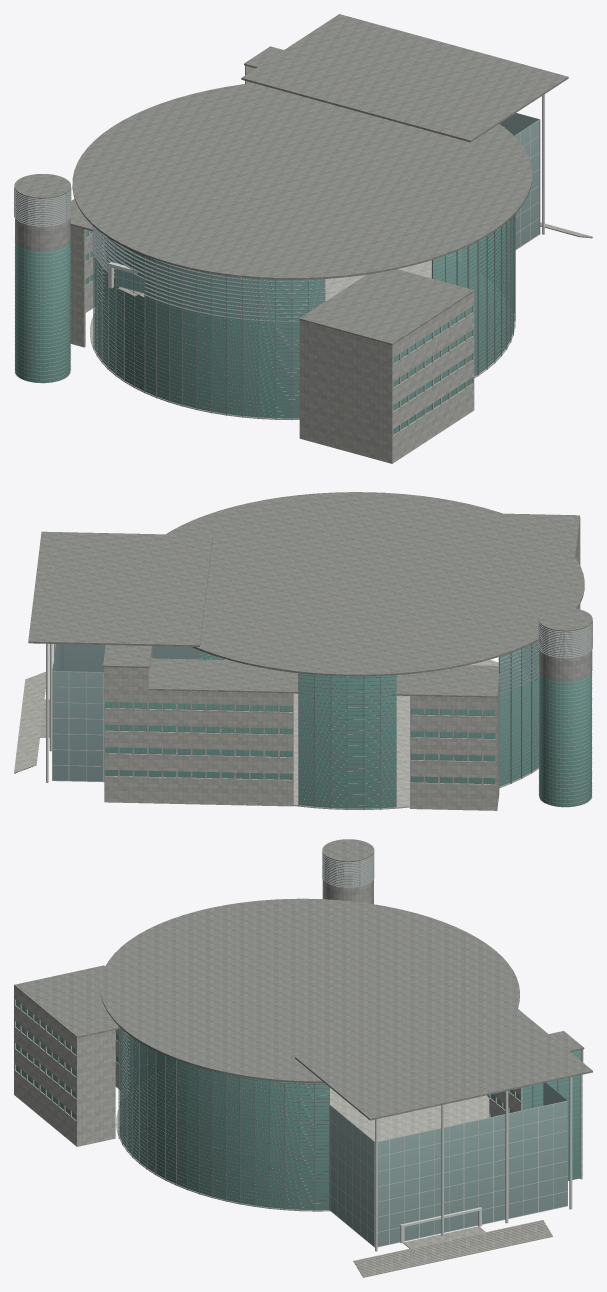
3 views of the same model, one above another, from view 1: azimuth 30°, elevation 25°; view 2: azimuth 150°, elevation 25°; view 3: azimuth 270°, elevation 25° (orthographic). The views are drawn at different scales.
Parts seen in each view (by area): view 1: library__roof, library__curtainGlass, library__stone, library__curtainFrames, library__glass, library__frame, library__atriumGlass, library__wingGlass, library__white, library__coreLouvers, library__core; view 2: library__roof, library__stone, library__curtainGlass, library__atriumGlass, library__glass, library__curtainFrames, library__wingGlass, library__wingFrames, library__stair-main, library__white, library__coreLouvers, library__core (+3 smaller); view 3: library__roof, library__curtainGlass, library__atriumGlass, library__stone, library__curtainFrames, library__atriumFrames, library__stair-main, library__wingGlass, library__roofColumns, library__coreLouvers, library__core, library__wingFrames (+1 smaller).
Part boxes in pixels (<box>): library__roof: <box>14,14,568,345</box>; library__curtainGlass: <box>94,215,514,418</box>; library__stone: <box>70,65,514,463</box>; library__curtainFrames: <box>93,214,515,419</box>; library__glass: <box>15,240,146,382</box>; library__frame: <box>91,226,325,322</box>; library__atriumGlass: <box>463,113,539,281</box>; library__wingGlass: <box>85,230,472,434</box>; library__white: <box>14,242,71,383</box>; library__coreLouvers: <box>14,186,71,227</box>; library__core: <box>15,219,70,251</box>; library__roof: <box>28,492,592,697</box>; library__stone: <box>104,517,580,810</box>; library__curtainGlass: <box>168,643,538,808</box>; library__atriumGlass: <box>52,644,200,781</box>; library__glass: <box>539,672,591,806</box>; library__curtainFrames: <box>201,644,538,809</box>; library__wingGlass: <box>105,702,495,783</box>; library__wingFrames: <box>105,702,494,784</box>; library__stair-main: <box>14,672,45,773</box>; library__white: <box>538,672,592,807</box>; library__coreLouvers: <box>538,620,592,659</box>; library__core: <box>539,650,592,681</box>; library__roof: <box>14,839,592,1120</box>; library__curtainGlass: <box>120,1027,489,1210</box>; library__atriumGlass: <box>316,1082,567,1246</box>; library__stone: <box>14,986,583,1211</box>; library__curtainFrames: <box>118,1026,329,1211</box>; library__atriumFrames: <box>316,1083,567,1247</box>; library__stair-main: <box>353,1220,552,1277</box>; library__wingGlass: <box>16,1000,581,1180</box>; library__roofColumns: <box>223,1073,572,1251</box>; library__coreLouvers: <box>322,853,374,888</box>; library__core: <box>322,880,373,903</box>; library__wingFrames: <box>16,1002,581,1180</box>.
Size of the model in its own units: 116 by 36.85 by 109.
11 materials, 8 textured.
